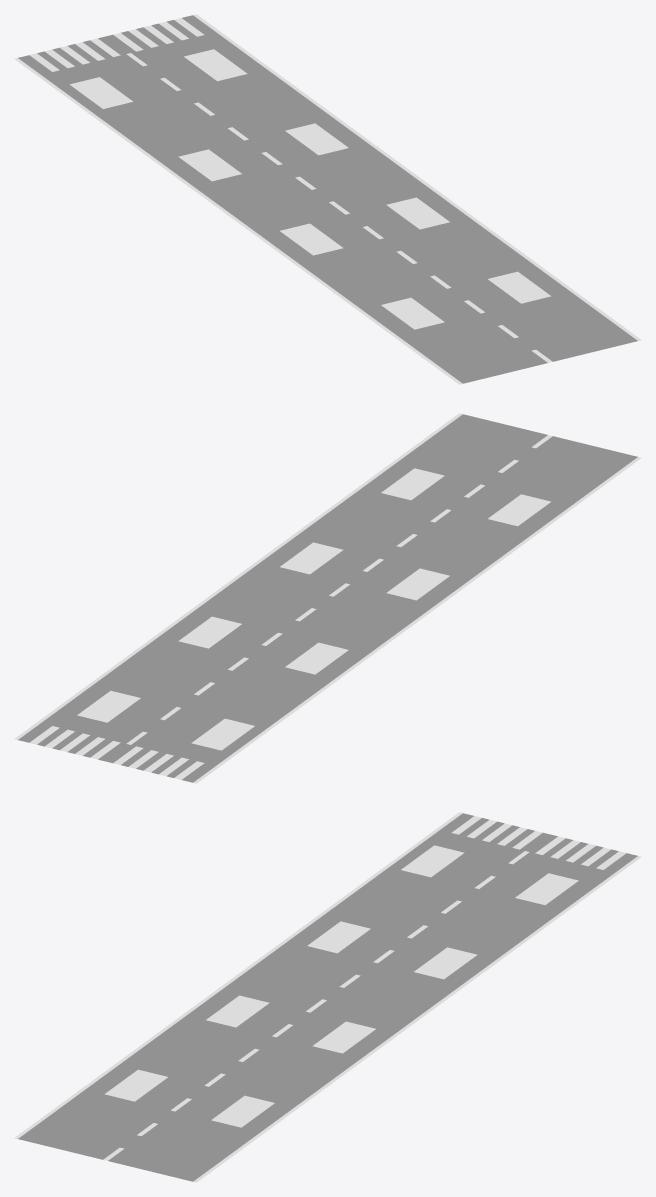
File: runway.fbx
3 renders of one model, top to bottom at view 1: azimuth 30°, elevation 25°; view 2: azimuth 150°, elevation 25°; view 3: azimuth 330°, elevation 25°, orthographic.
Parts seen in each view (by area): view 1: runway; view 2: runway; view 3: runway.
Part boxes in pixels (x1=…): runway: x1=14, y1=14, x2=641, y2=384; runway: x1=14, y1=413, x2=641, y2=783; runway: x1=14, y1=812, x2=641, y2=1182.
Size of the model in its own units: 1000 by 0.000688 by 4220.
